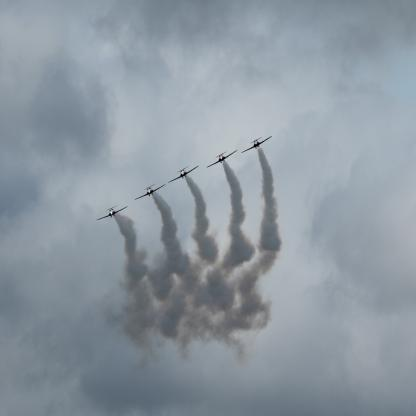aircraft: (168, 164, 199, 183), (240, 136, 273, 153), (96, 204, 128, 221), (207, 150, 237, 168), (135, 184, 166, 200)
